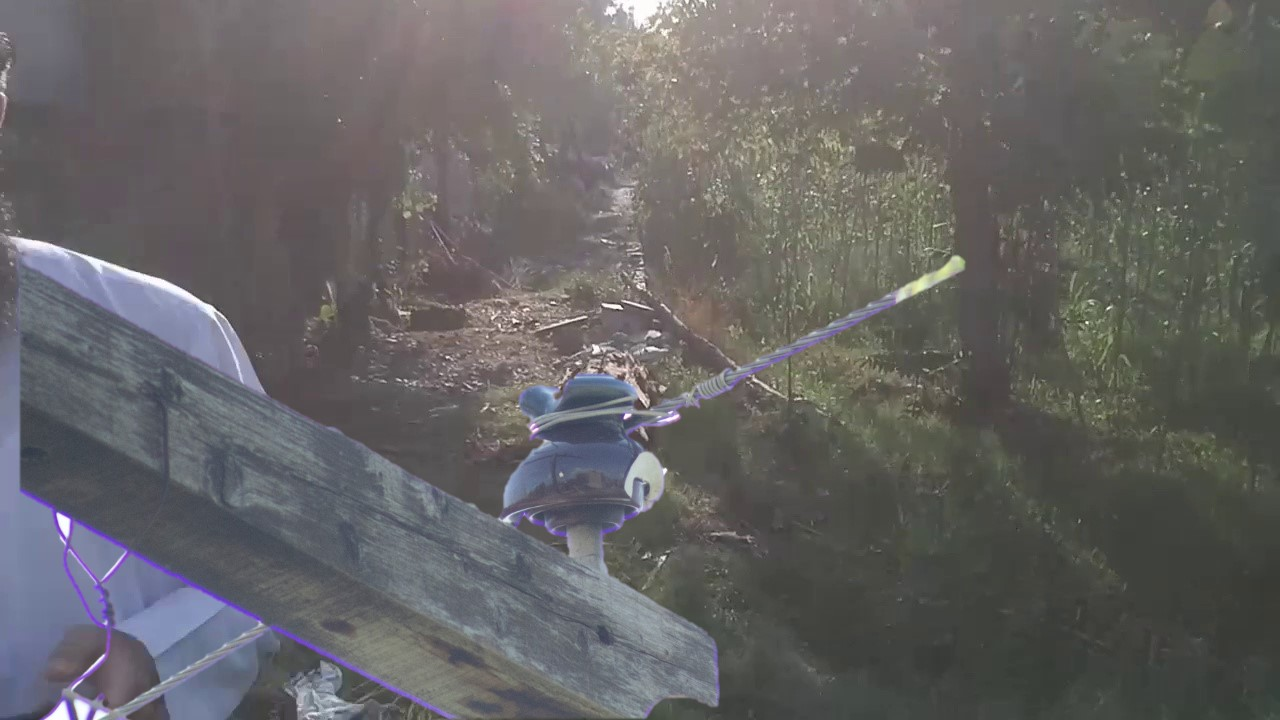defect_pin: (499, 366, 672, 532)
